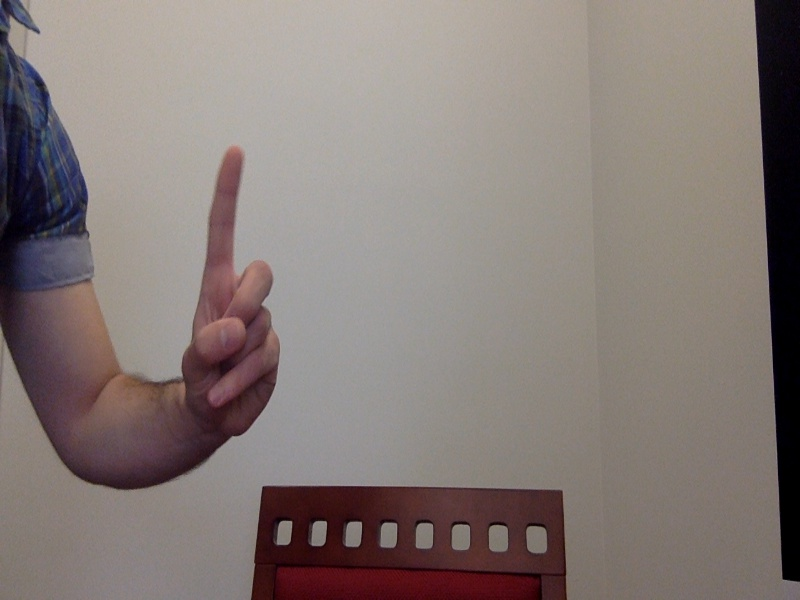1-hand: (186, 146, 289, 434)
